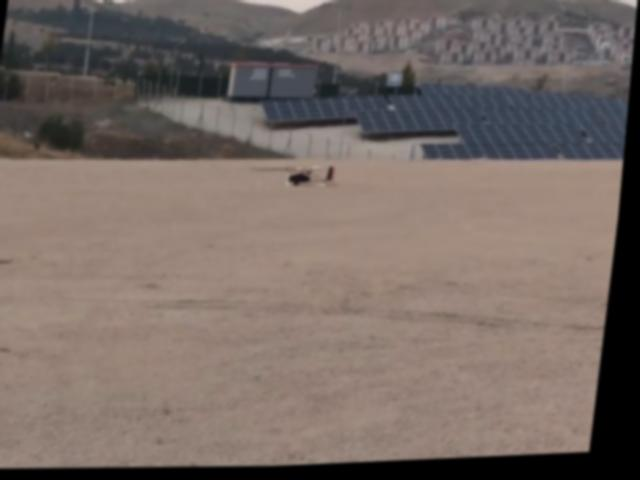insansiz-hava-araci: (290, 169, 339, 191)
